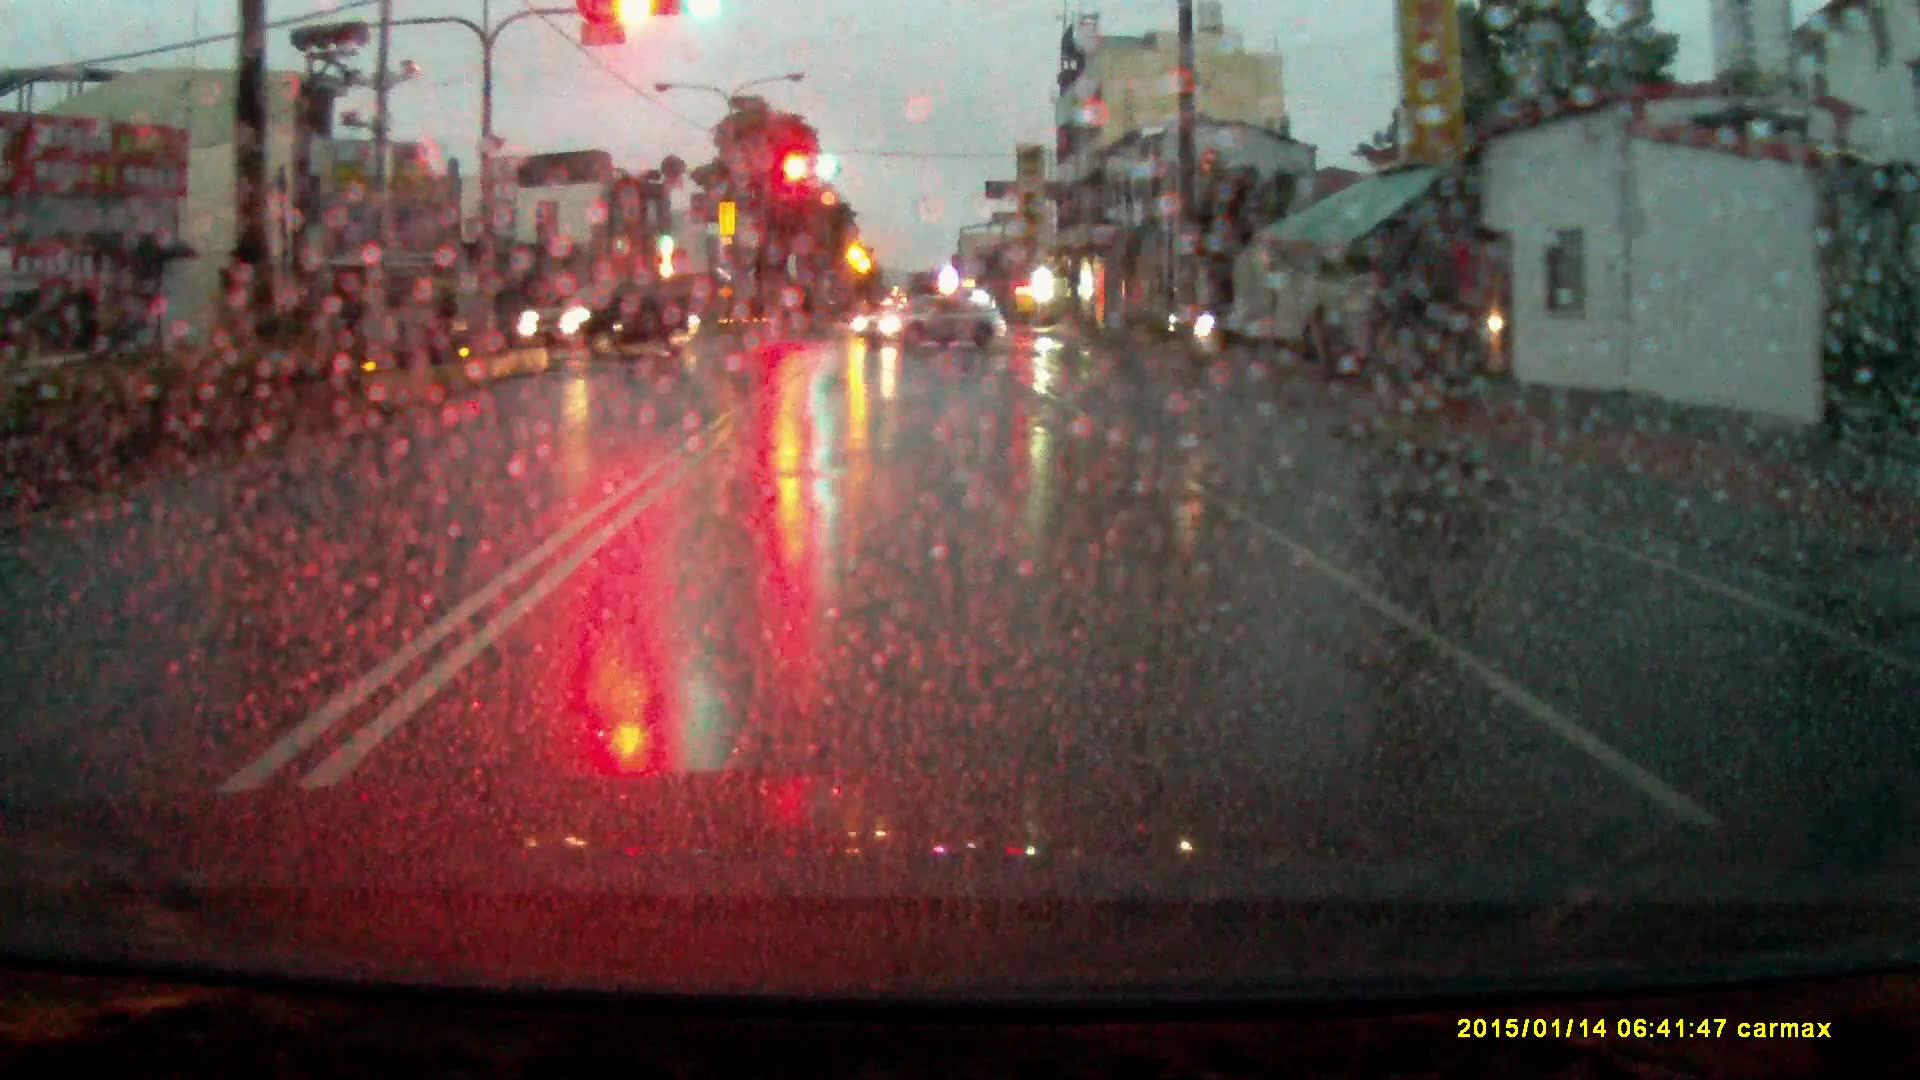vehicle: (518, 276, 702, 361), (855, 287, 1009, 348)
